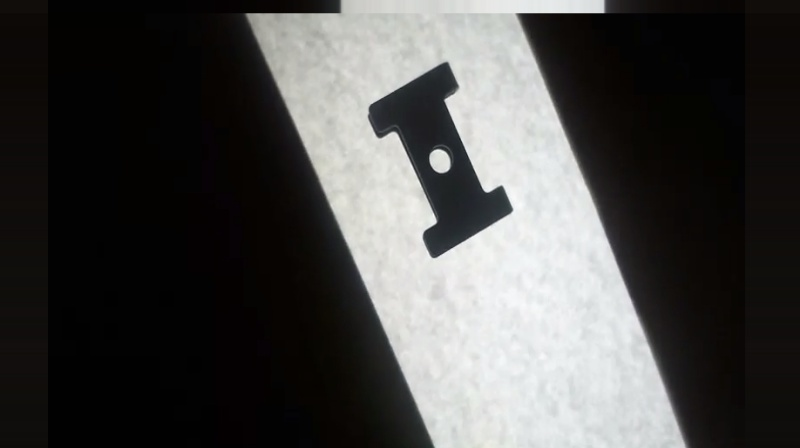O002: (366, 60, 516, 260)
